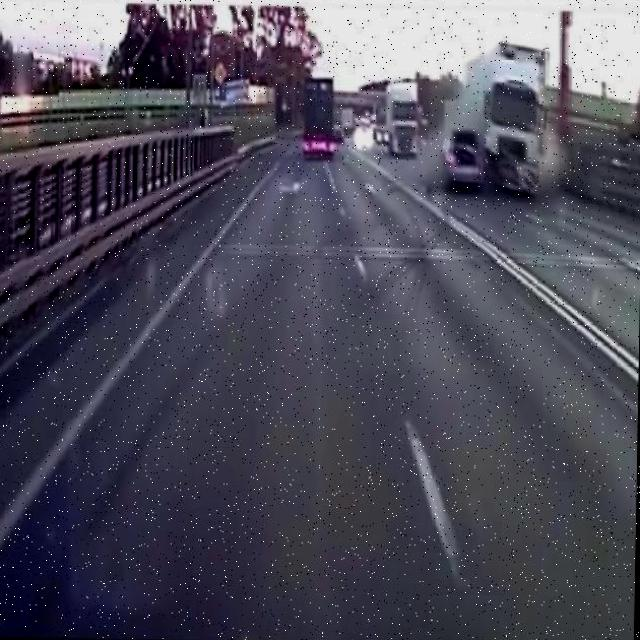accident: (435, 33, 560, 205)
